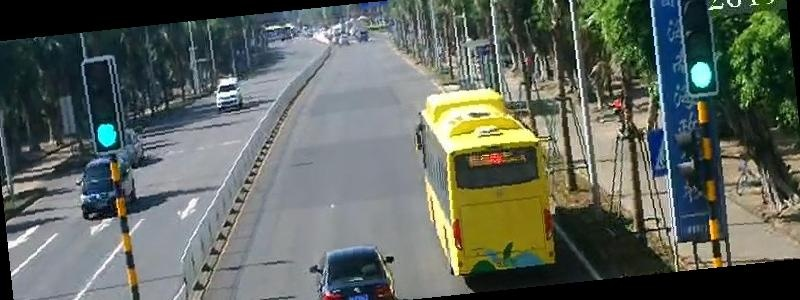green: (687, 61, 716, 88), (94, 121, 120, 147)
